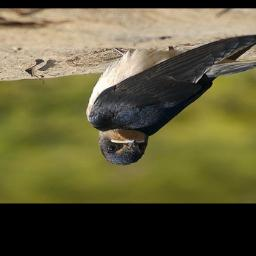Swallow: (84, 35, 256, 166)
